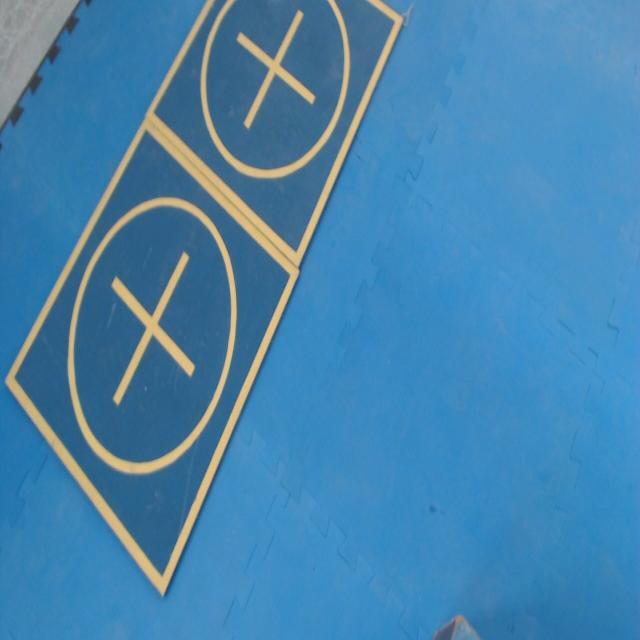base_pouso: (6, 109, 304, 602), (144, 0, 404, 270)
